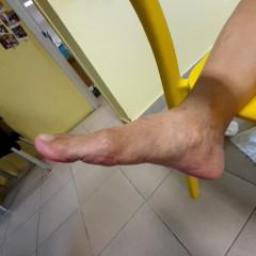Medial View -Right Foot-: (18, 76, 255, 193)
